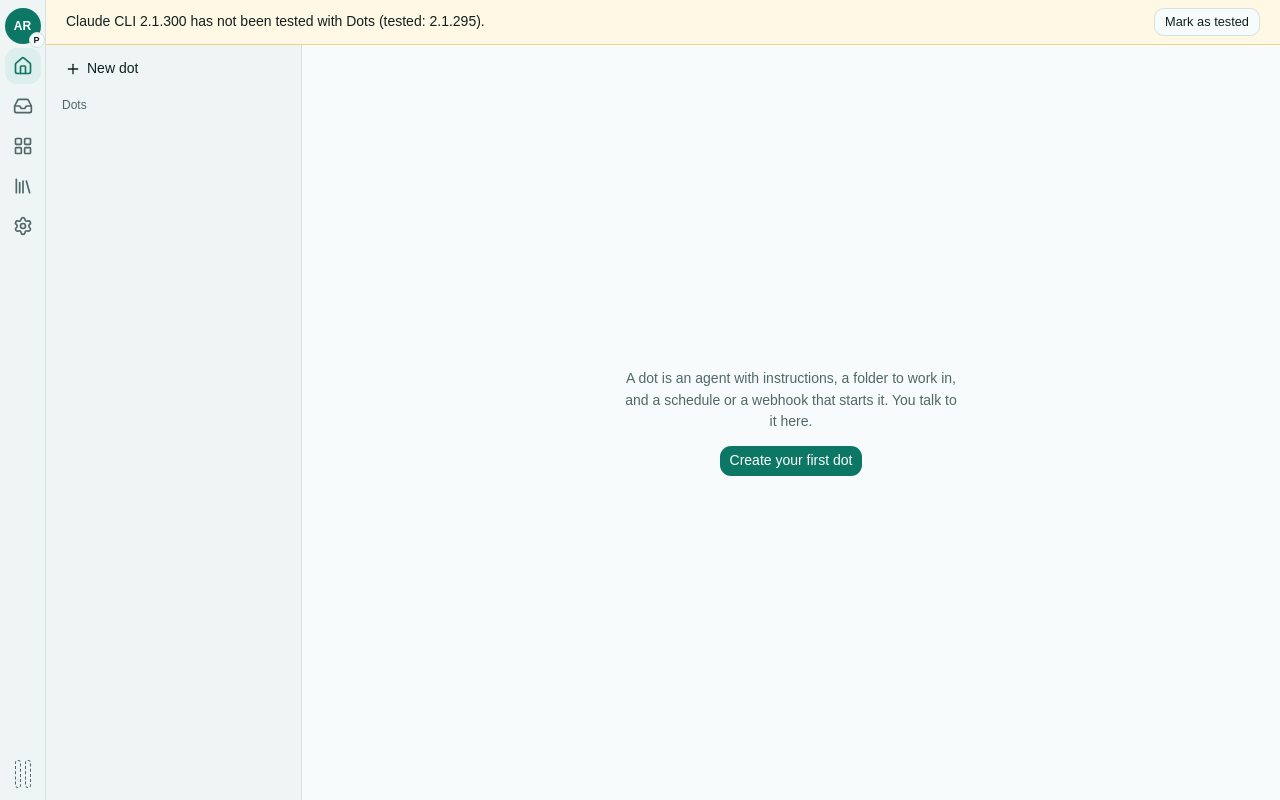
Test: the app frame › marks the CLI as tested from its banner
This screenshot has width=1280, height=800.
Click the button "Mark as tested": (1207, 22) 1154,8 -> 1260,36
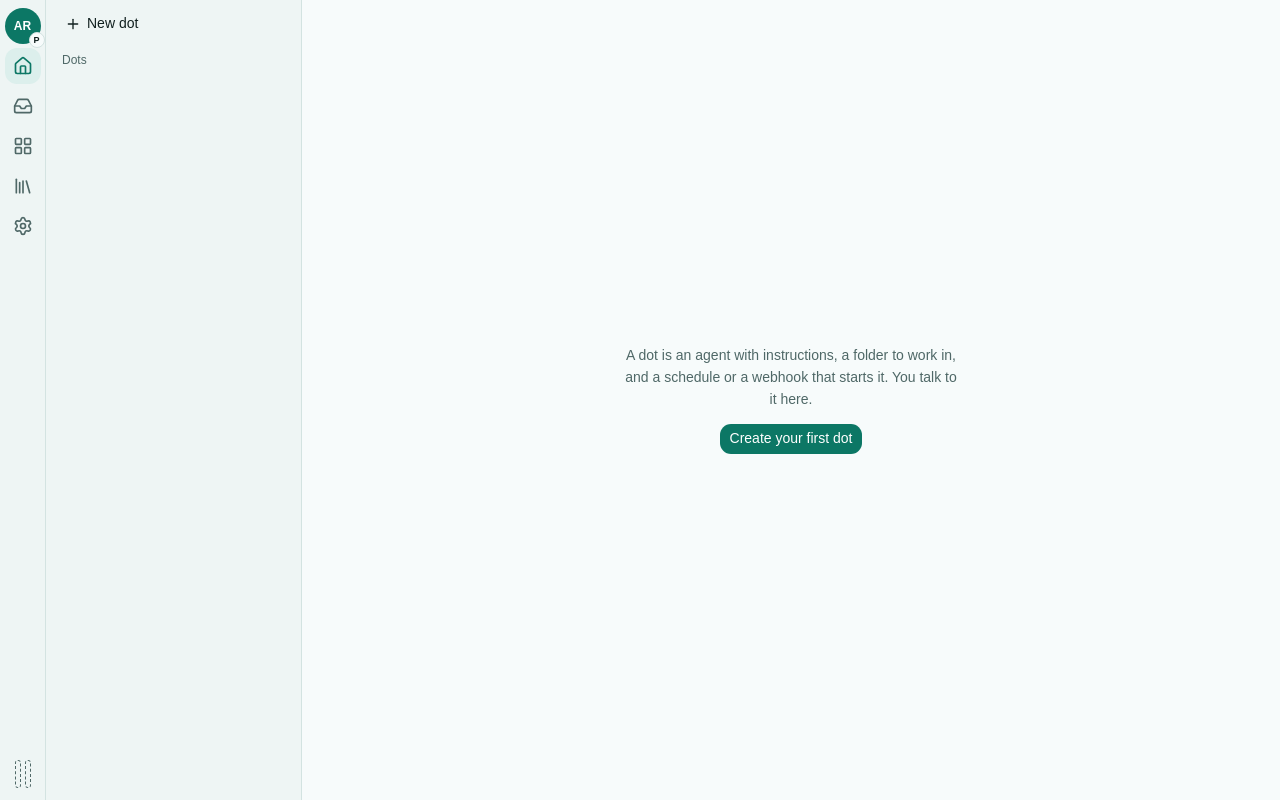
Result: the text "has not been tested" is gone
